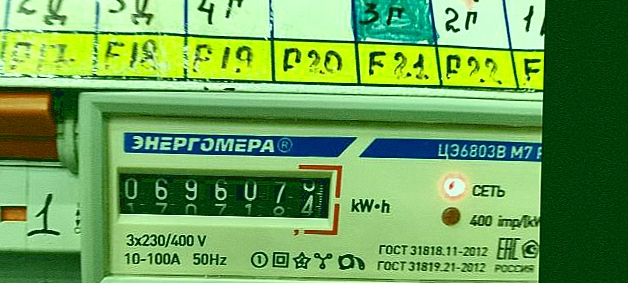0: (121, 173, 139, 198), (241, 174, 257, 200)
4: (298, 191, 314, 215)
6: (151, 174, 169, 199), (211, 175, 229, 199)
7: (271, 177, 287, 203)
9: (181, 175, 198, 199)
screen: (102, 151, 345, 231)
